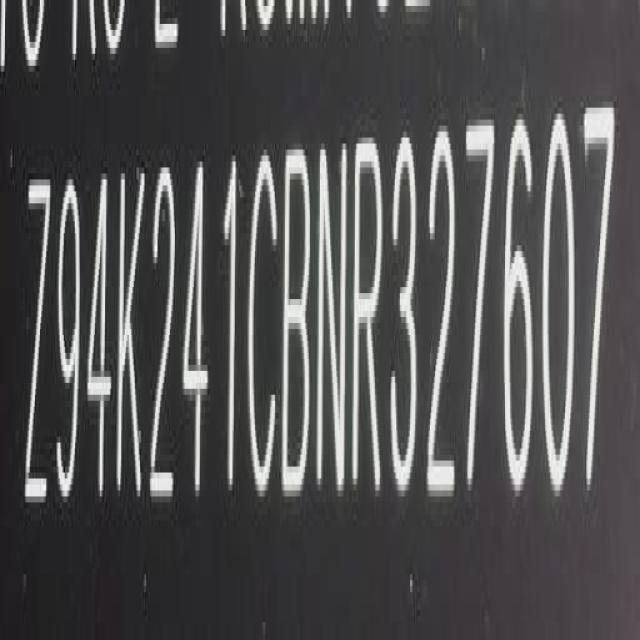0: (541, 105, 575, 501)
1: (222, 146, 239, 501)
2: (428, 122, 460, 506), (149, 160, 178, 514)
3: (392, 129, 424, 507)
4: (184, 156, 214, 513), (87, 169, 116, 512)
6: (502, 113, 536, 504)
7: (586, 97, 621, 499), (463, 111, 497, 503)
9: (54, 174, 83, 516)
B: (284, 138, 317, 502)
C: (248, 149, 280, 507)
K: (118, 166, 148, 511)
N: (318, 138, 349, 505)
R: (352, 134, 386, 503)
Z: (21, 172, 51, 526)
